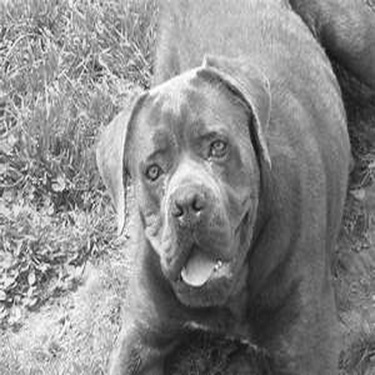dog: (77, 1, 373, 371)
